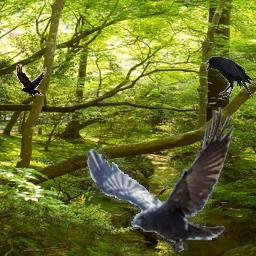Crow: (86, 106, 234, 252), (205, 56, 256, 98), (16, 64, 47, 97)
